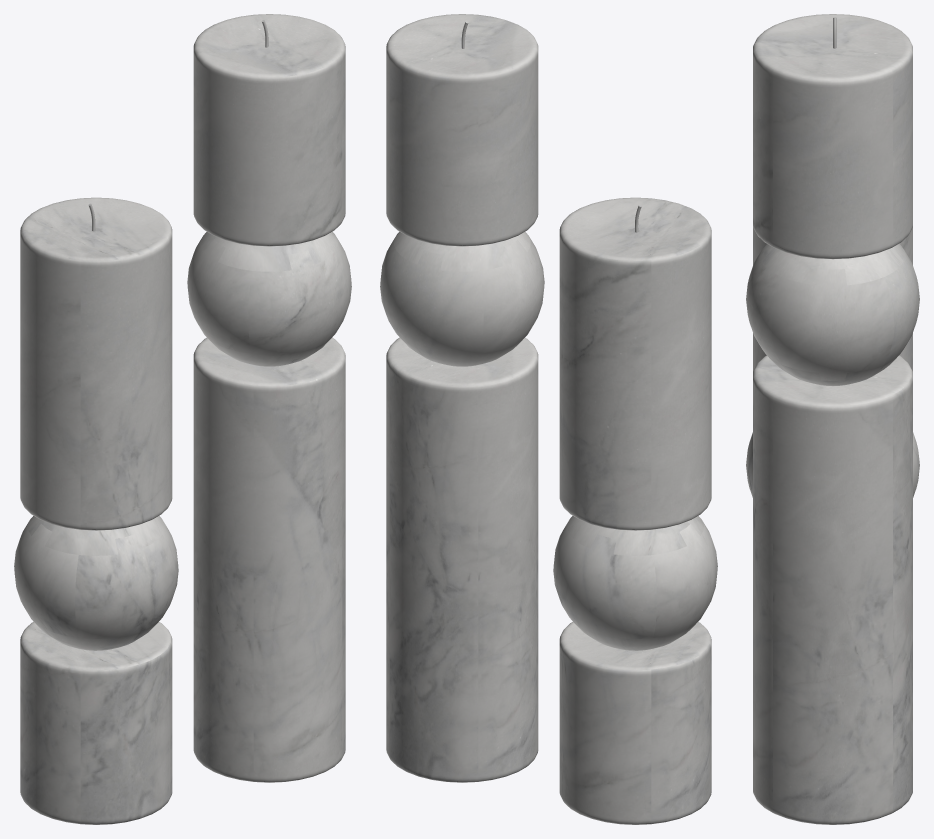
The model's file is Decoration 14.obj.
3 views of the same model, side by side, from view 1: azimuth 30°, elevation 25°; view 2: azimuth 150°, elevation 25°; view 3: azimuth 270°, elevation 25° (orthographic). The views are drawn at different scales.
Parts seen in each view (by area): view 1: Decoration_14_00, Decoration_14_01; view 2: Decoration_14_00, Decoration_14_01; view 3: Decoration_14_00, Decoration_14_01.
Part boxes in pixels (x1=…): Decoration_14_00: x1=187, y1=14, x2=351, y2=782; Decoration_14_01: x1=14, y1=197, x2=178, y2=824; Decoration_14_00: x1=380, y1=14, x2=544, y2=782; Decoration_14_01: x1=553, y1=197, x2=717, y2=824; Decoration_14_00: x1=746, y1=14, x2=919, y2=824; Decoration_14_01: x1=746, y1=227, x2=919, y2=497.
Bounding box in the file's own units: 18.93 × 41.93 × 8.56.
1 material, 1 textured.
